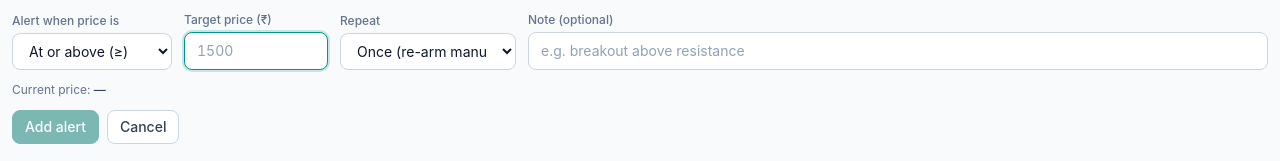
Test: AlertForm › shows re-arm options only for repeating alerts
Expected: the field labelled "Re-arm band" is not shown
Select "Re-arm automatically" in the dropdown labelled "Repeat" at (428, 52), box [340,33,516,70]
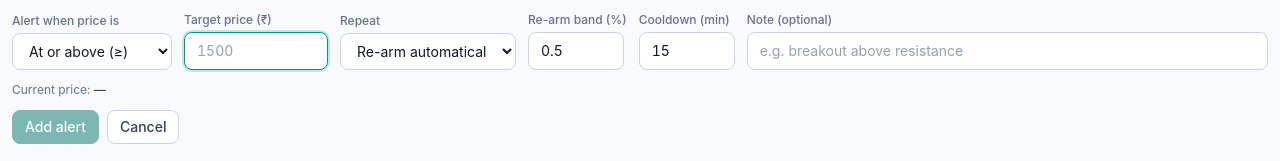
Expected: the field labelled "Re-arm band (%)" is shown, [528,32,624,70]
